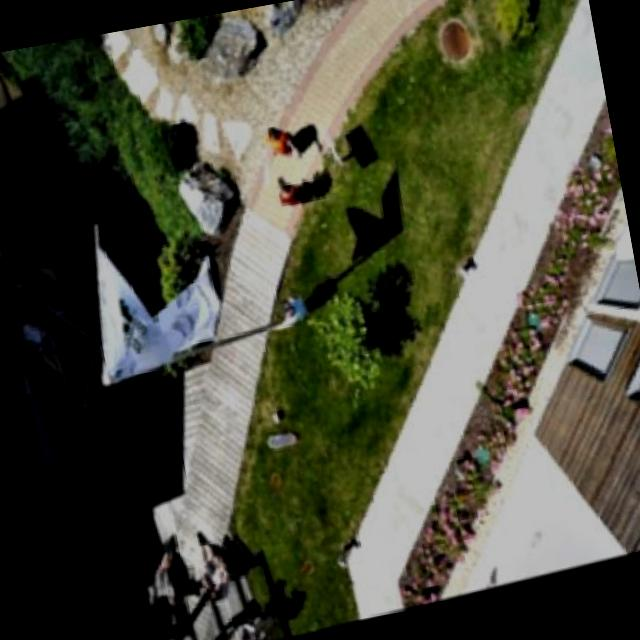Person: (264, 280, 316, 336), (257, 118, 310, 168), (270, 175, 310, 220)
